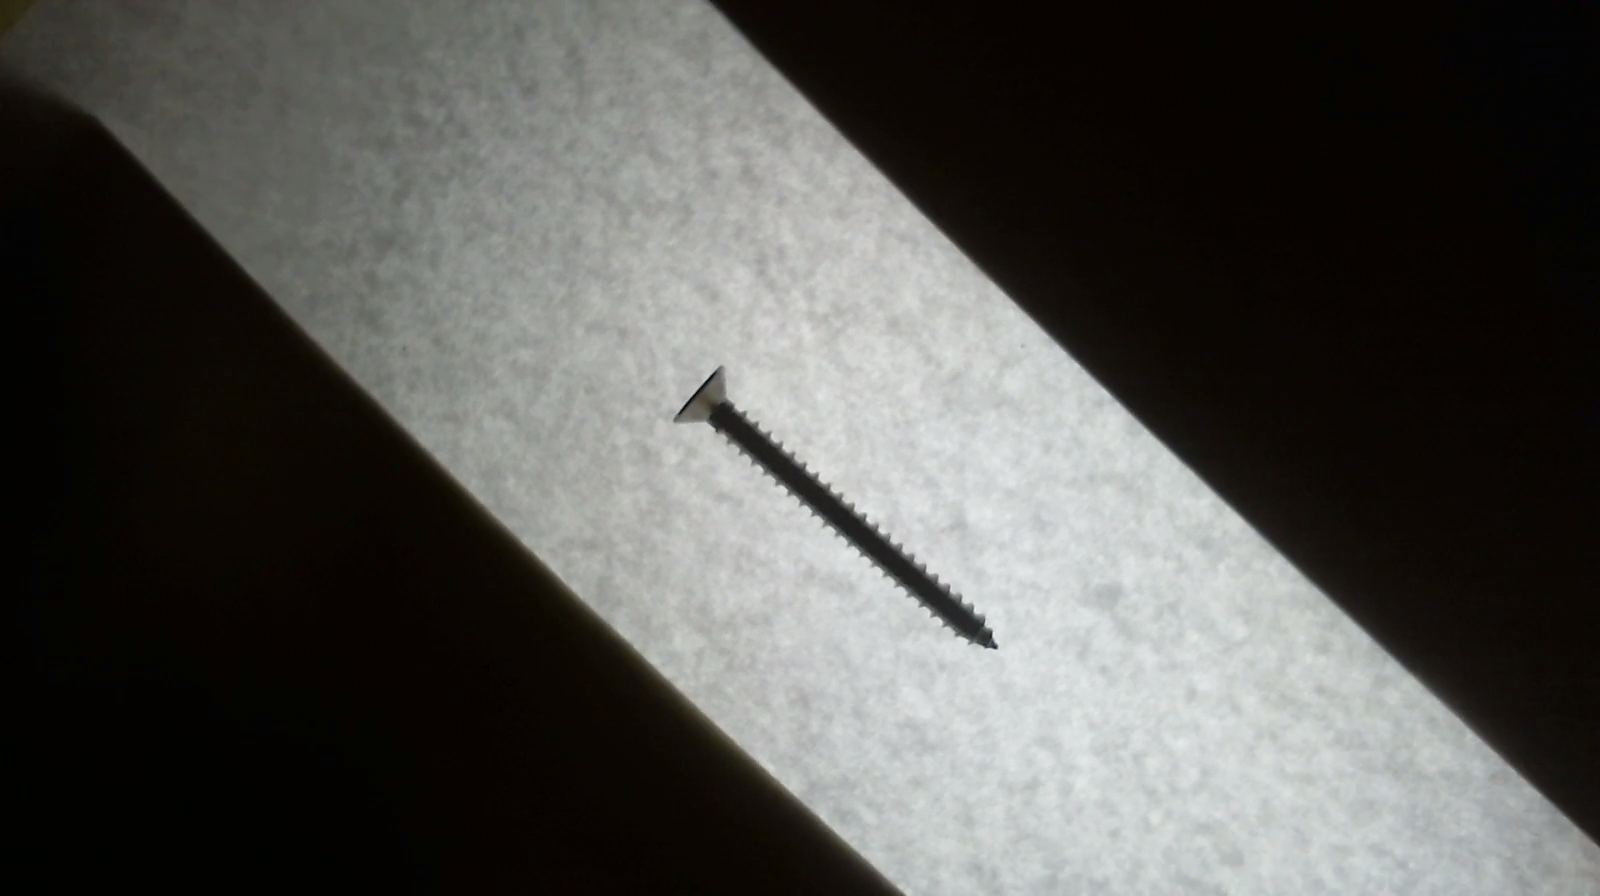S002: (663, 359, 1010, 659)
